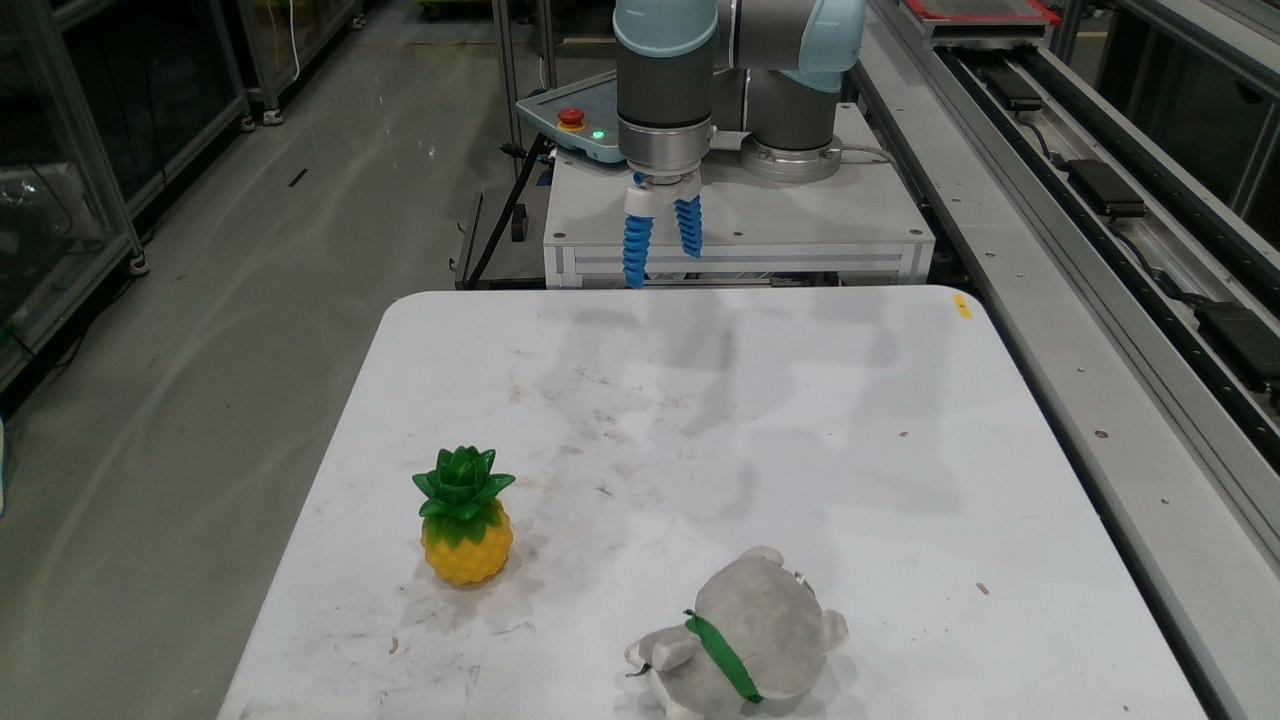UR5: (612, 0, 860, 215)
gripper_left: (624, 216, 652, 285)
gripper_right: (674, 197, 700, 255)
target: (628, 547, 846, 719), (414, 447, 510, 584)
